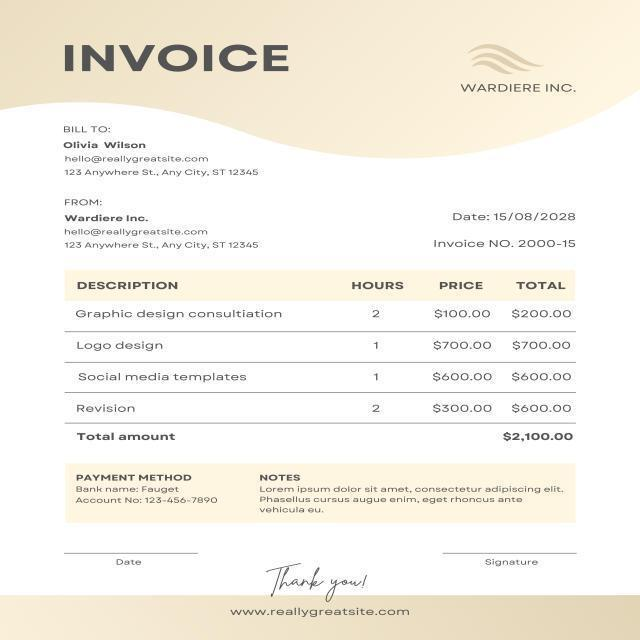ROI: (66, 269, 597, 446), (249, 470, 573, 527), (53, 193, 272, 255), (55, 122, 270, 183), (53, 39, 307, 87), (427, 197, 594, 257), (65, 463, 226, 517), (260, 555, 374, 601), (230, 604, 413, 620), (460, 79, 588, 100), (483, 557, 544, 570), (112, 552, 152, 571)
